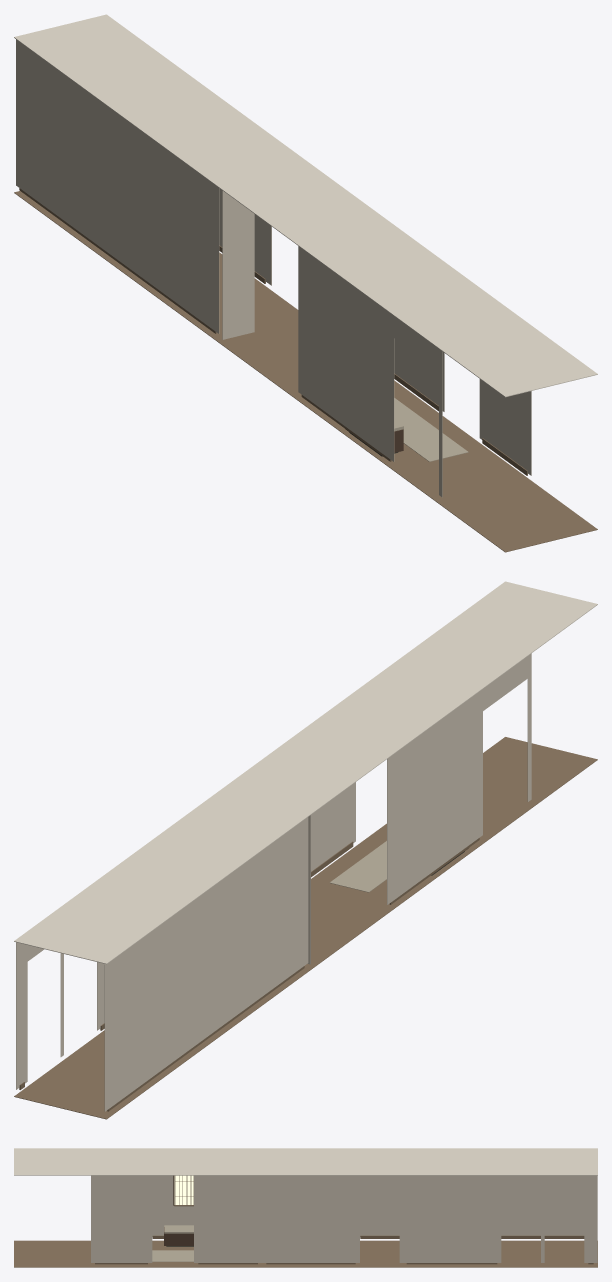
The model's file is corridor-1.glb.
3 renders of one model, top to bottom at view 1: azimuth 30°, elevation 25°; view 2: azimuth 150°, elevation 25°; view 3: azimuth 270°, elevation 25°, orthographic. The views are drawn at different scales.
Parts seen in each view (by area): view 1: DESIGN | Entrance coordinated ceiling, DESIGN | Entrance paired wall finish, DESIGN | Entrance floor finish, DESIGN | Entrance paired wall finish.003, DESIGN | Arch approach finish, DESIGN | Entrance paired wall finish.013, DESIGN | Entrance quiet runner, DESIGN | Entrance paired wall finish.012, DESIGN | Entrance paired wall finish.006, DESIGN | Entrance paired wall finish.002; view 2: DESIGN | Entrance coordinated ceiling, DESIGN | Entrance paired wall finish, DESIGN | Entrance floor finish, DESIGN | Entrance paired wall finish.003, DESIGN | Entrance paired wall finish.012, DESIGN | Entrance paired wall finish.005, DESIGN | Entrance quiet runner, DESIGN | Entrance paired wall finish.002, DESIGN | Entrance paired wall finish.001; view 3: DESIGN | Entrance coordinated ceiling, DESIGN | Entrance paired wall finish.006, DESIGN | Entrance paired wall finish.009, DESIGN | Entrance floor finish, DESIGN | Entrance paired wall finish.012, DESIGN | Entrance paired wall finish, DESIGN | Entrance paired wall finish.013, DESIGN | Entrance paired wall finish.003, DESIGN | Entrance paired wall finish.005, DESIGN | Entrance paired wall finish.007, DESIGN | Entrance paired wall finish.010, DESIGN | Entrance paired wall finish.004 (+8 smaller).
Boxes of the visible parts, x1=… form: DESIGN | Entrance coordinated ceiling: x1=14, y1=14, x2=597, y2=397; DESIGN | Entrance paired wall finish: x1=16, y1=39, x2=219, y2=333; DESIGN | Entrance floor finish: x1=14, y1=191, x2=597, y2=552; DESIGN | Entrance paired wall finish.003: x1=298, y1=246, x2=394, y2=461; DESIGN | Arch approach finish: x1=222, y1=190, x2=254, y2=339; DESIGN | Entrance paired wall finish.013: x1=479, y1=379, x2=531, y2=475; DESIGN | Entrance quiet runner: x1=394, y1=398, x2=468, y2=461; DESIGN | Entrance paired wall finish.012: x1=394, y1=339, x2=444, y2=411; DESIGN | Entrance paired wall finish.006: x1=219, y1=188, x2=268, y2=283; DESIGN | Entrance paired wall finish.002: x1=394, y1=316, x2=438, y2=370; DESIGN | Entrance coordinated ceiling: x1=14, y1=581, x2=597, y2=964; DESIGN | Entrance paired wall finish: x1=104, y1=817, x2=308, y2=1111; DESIGN | Entrance floor finish: x1=14, y1=737, x2=597, y2=1119; DESIGN | Entrance paired wall finish.003: x1=387, y1=689, x2=482, y2=904; DESIGN | Entrance paired wall finish.012: x1=311, y1=782, x2=355, y2=871; DESIGN | Entrance paired wall finish.005: x1=16, y1=942, x2=27, y2=1089; DESIGN | Entrance quiet runner: x1=329, y1=841, x2=386, y2=892; DESIGN | Entrance paired wall finish.002: x1=483, y1=656, x2=527, y2=710; DESIGN | Entrance paired wall finish.001: x1=527, y1=653, x2=531, y2=801; DESIGN | Entrance coordinated ceiling: x1=14, y1=1148, x2=597, y2=1175; DESIGN | Entrance paired wall finish.006: x1=402, y1=1175, x2=501, y2=1262; DESIGN | Entrance paired wall finish.009: x1=262, y1=1175, x2=359, y2=1262; DESIGN | Entrance floor finish: x1=14, y1=1240, x2=597, y2=1267; DESIGN | Entrance paired wall finish.012: x1=194, y1=1175, x2=262, y2=1262; DESIGN | Entrance paired wall finish: x1=360, y1=1176, x2=584, y2=1236; DESIGN | Entrance paired wall finish.013: x1=91, y1=1175, x2=152, y2=1262; DESIGN | Entrance paired wall finish.003: x1=152, y1=1175, x2=193, y2=1236; DESIGN | Entrance paired wall finish.005: x1=584, y1=1175, x2=597, y2=1262; DESIGN | Entrance paired wall finish.007: x1=501, y1=1175, x2=540, y2=1191; DESIGN | Entrance paired wall finish.010: x1=360, y1=1175, x2=399, y2=1191; DESIGN | Entrance paired wall finish.004: x1=545, y1=1175, x2=584, y2=1191.
Bounding box in the file's own units: 1.7 × 2.73 × 15.61.
